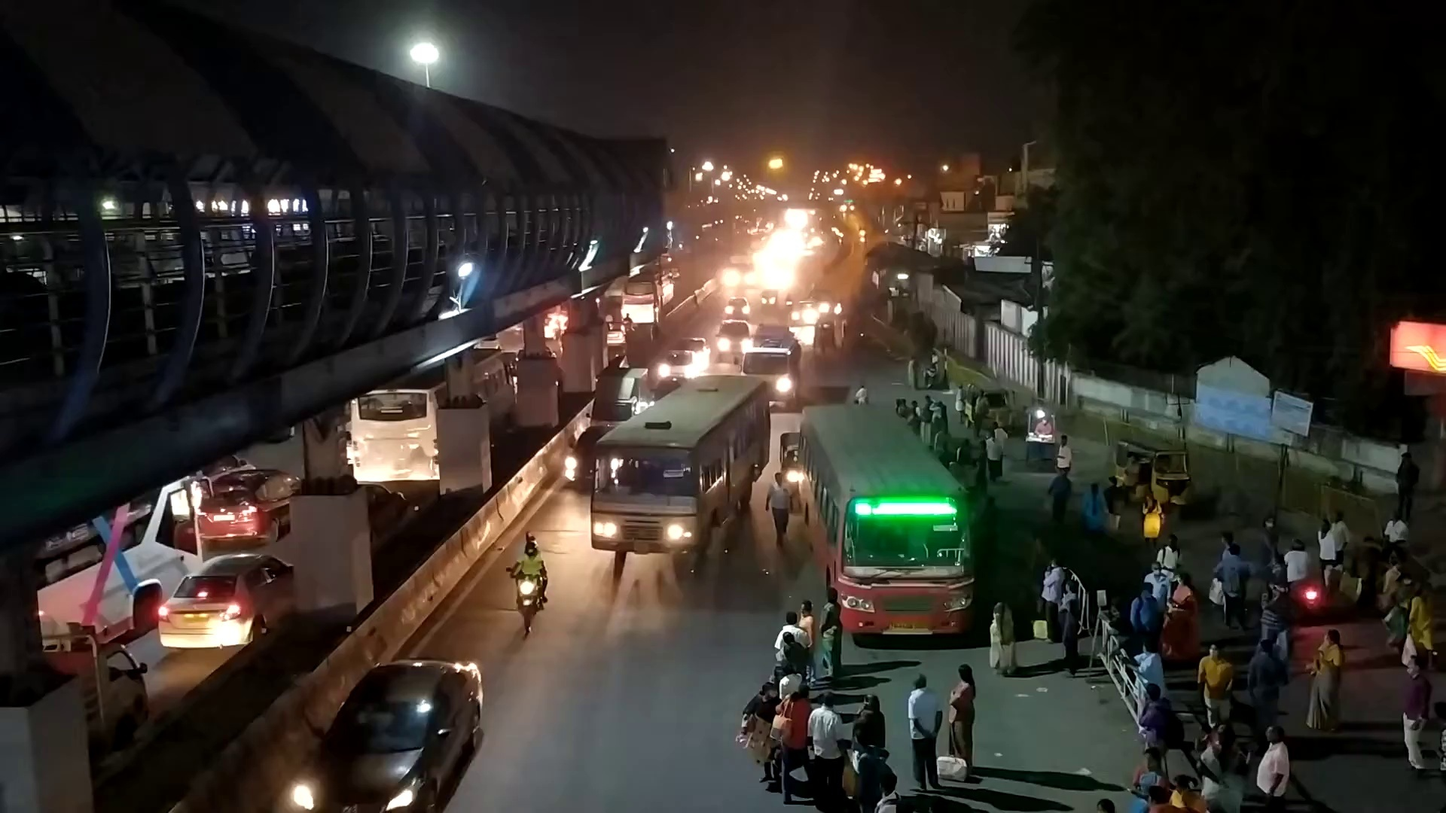driver_helmet: (509, 541, 549, 606), (1284, 538, 1311, 584)
motorcycle: (505, 529, 549, 637), (1284, 538, 1320, 616)
